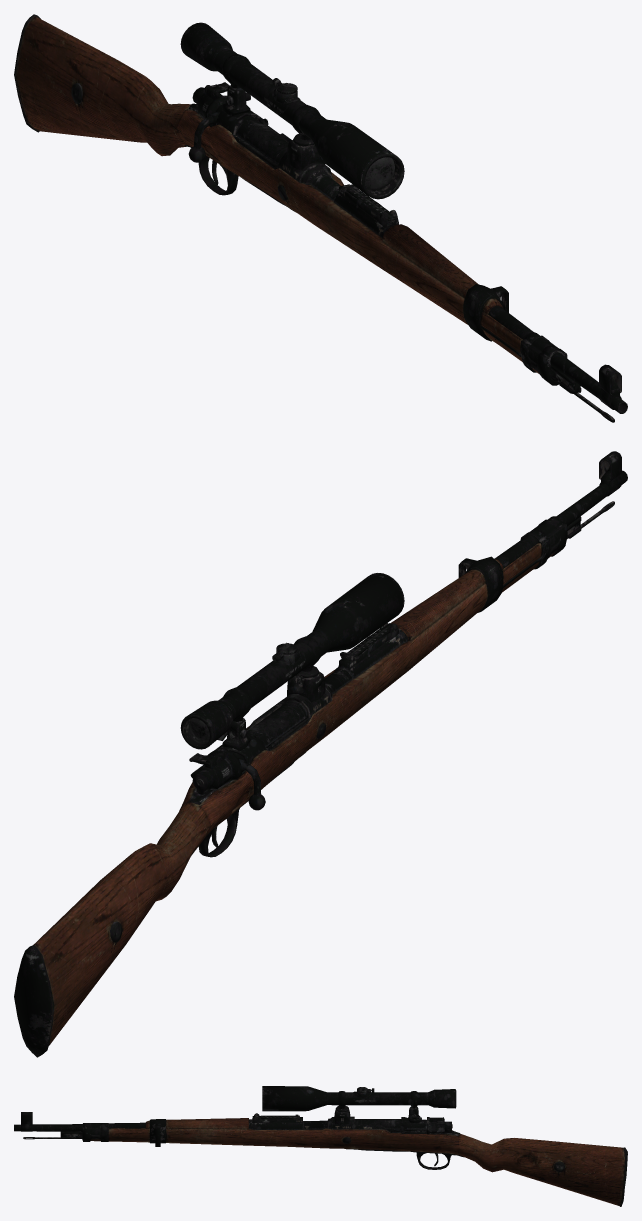
3 views of the same model, one above another, from view 1: azimuth 30°, elevation 25°; view 2: azimuth 150°, elevation 25°; view 3: azimuth 270°, elevation 25° (orthographic). The views are drawn at different scales.
Parts seen in each view (by area): view 1: Mauser_98K; view 2: Mauser_98K; view 3: Mauser_98K.
Boxes of the visible parts, x1,y1,x2,y2 form: Mauser_98K: [14, 14, 627, 422]; Mauser_98K: [14, 451, 627, 1057]; Mauser_98K: [14, 1086, 627, 1206].
Bounding box in the file's own units: 6.53 × 23.95 × 111.
Materials: 1 (1 with a texture image).
